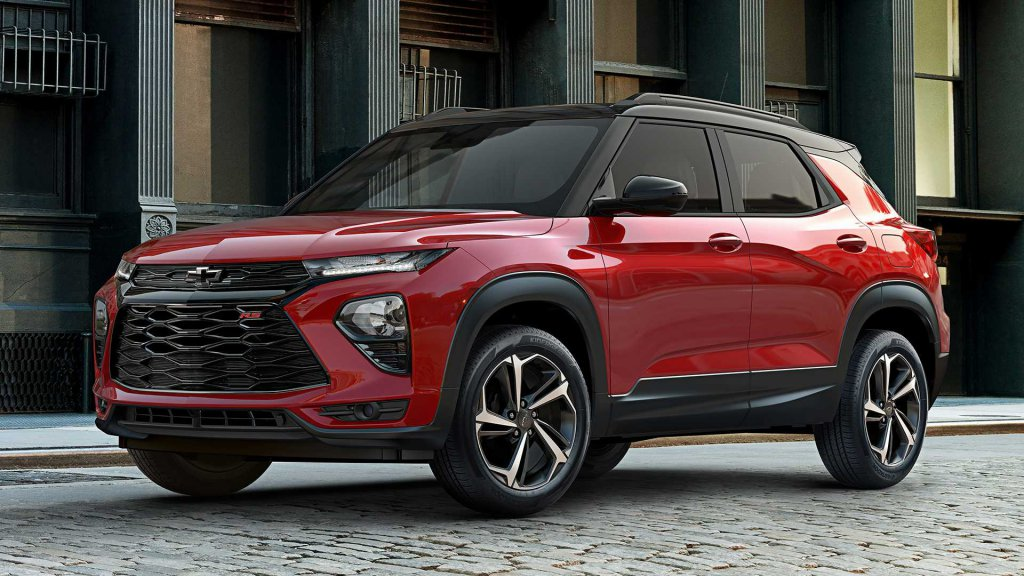pickup: (86, 88, 955, 516)
